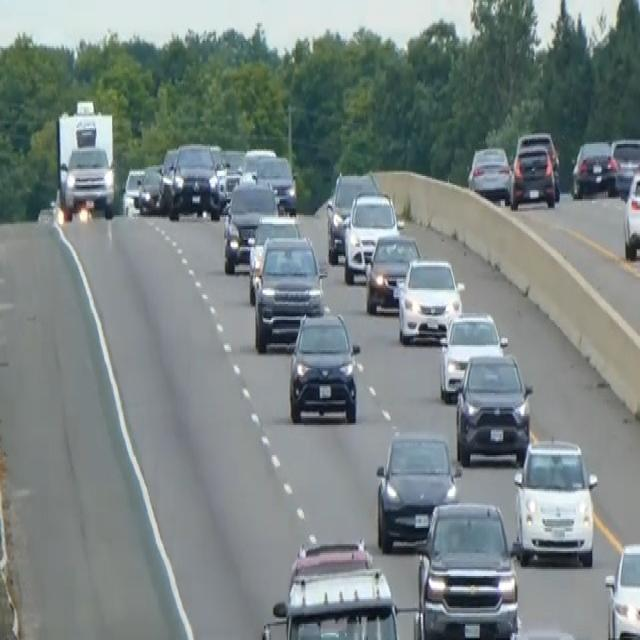car: (414, 498, 519, 638), (261, 537, 403, 638), (512, 436, 598, 567), (374, 428, 461, 553), (454, 348, 533, 466), (252, 233, 326, 352), (287, 306, 360, 425), (438, 308, 507, 402), (396, 254, 464, 345), (342, 190, 403, 283), (222, 176, 277, 272), (325, 167, 378, 263), (246, 212, 302, 302), (364, 229, 421, 315), (168, 140, 221, 220), (604, 539, 639, 638), (510, 142, 558, 208), (570, 137, 618, 199), (467, 143, 512, 205), (256, 153, 297, 215), (610, 135, 639, 196), (622, 162, 639, 260), (136, 162, 165, 215), (219, 146, 244, 199), (158, 146, 179, 208), (241, 144, 276, 178), (121, 165, 144, 215), (501, 626, 592, 638)
truck: (54, 98, 117, 220)
